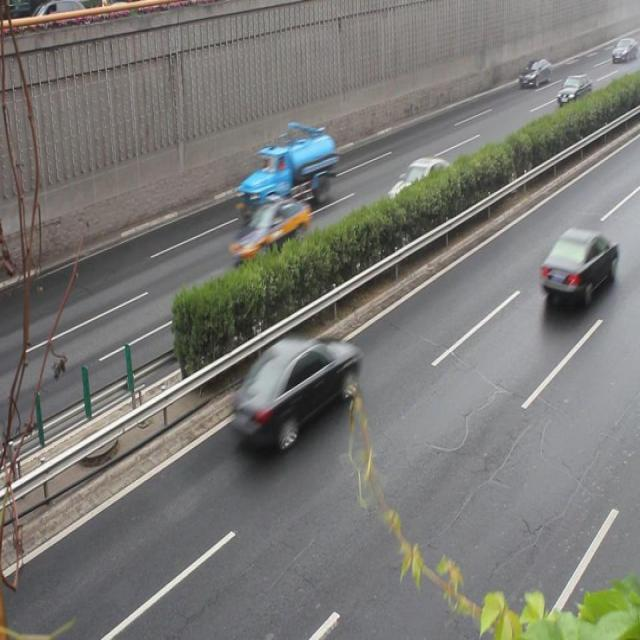bus: (237, 132, 335, 215)
car: (230, 336, 357, 445), (538, 226, 616, 304), (230, 196, 308, 259), (382, 156, 451, 216), (555, 74, 591, 111)
